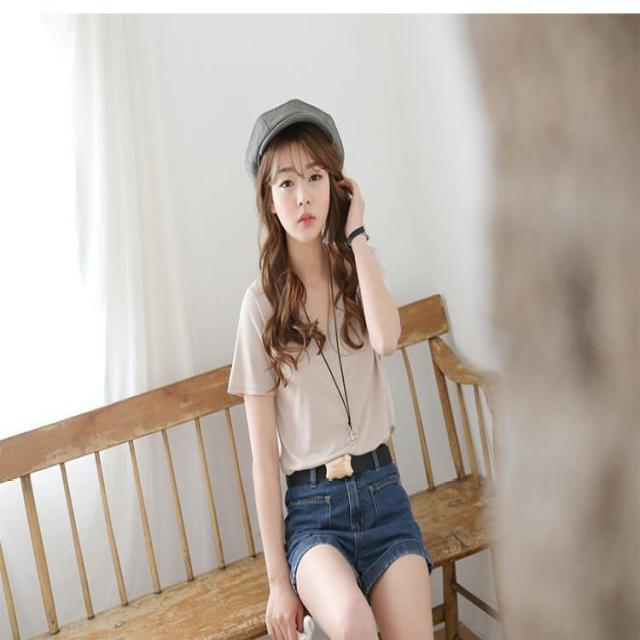short sleeve top: (228, 247, 392, 476)
shorts: (285, 445, 432, 597)
